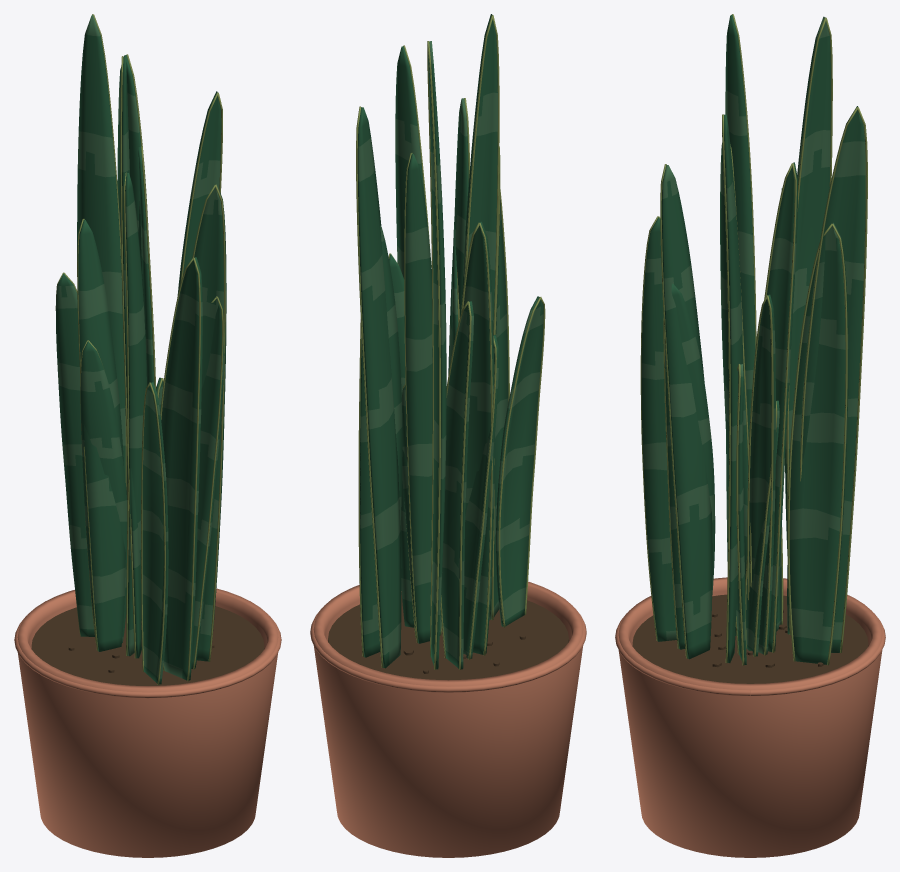
Rendered from potted-snake-plant.glb.
The picture shows the model from 3 angles, left to right: view 1: azimuth 30°, elevation 25°; view 2: azimuth 150°, elevation 25°; view 3: azimuth 270°, elevation 25°; orthographic projection. The views are drawn at different scales.
Visible parts, largest first — view 1: catalog_surface_RealismUV; view 2: catalog_surface_RealismUV; view 3: catalog_surface_RealismUV.
Boxes of the visible parts, left/top/right/bottom form: catalog_surface_RealismUV: left=14, top=14, right=281, bottom=857; catalog_surface_RealismUV: left=310, top=14, right=586, bottom=857; catalog_surface_RealismUV: left=615, top=14, right=885, bottom=857.
Bounding box in the file's own units: 0.33 × 1.06 × 0.33.
